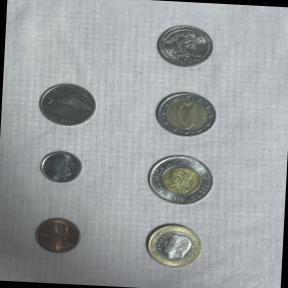coin: (140, 148, 222, 210), (150, 83, 224, 142), (34, 76, 102, 132), (140, 218, 208, 272), (150, 19, 218, 71), (26, 210, 88, 260), (34, 146, 88, 188)
